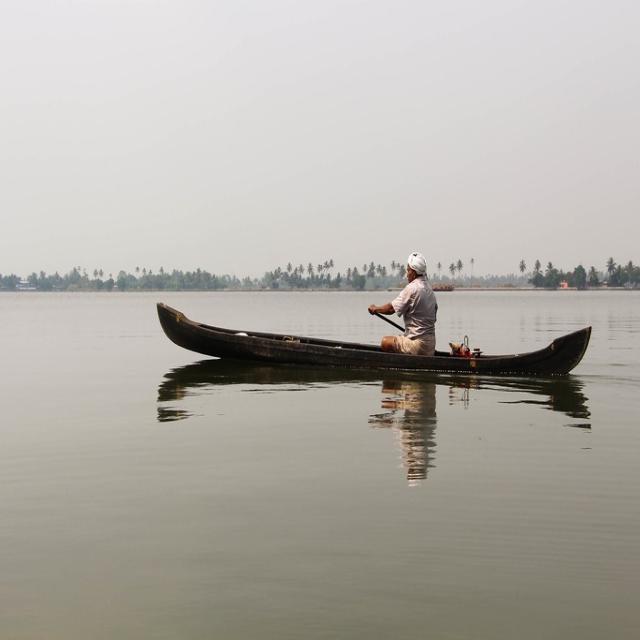boat: (147, 300, 604, 376)
